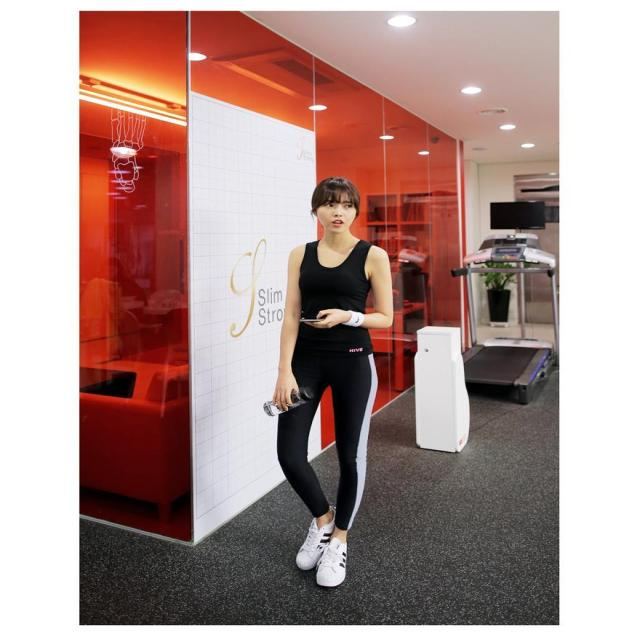trousers: (279, 348, 375, 527)
vest: (297, 240, 373, 354)
